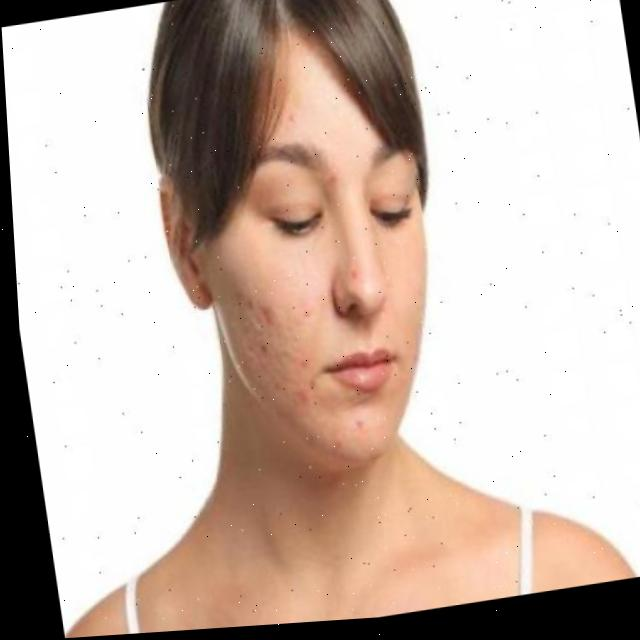Acne: (231, 280, 328, 424)
